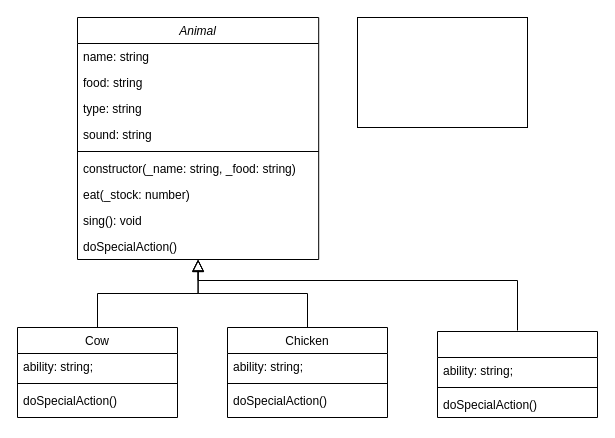
Some shapes in this 615 by 438 pixel diagram are drawn without their labels. The shapes that lost their labels are listed below. From the top down, each one's box as (x1, y1, x2, y2) in pixels, then its label:
(356, 16, 528, 128): interface Stock { straw: number; seeds: number; dogfood: number; }
(436, 330, 598, 418): Sheep
